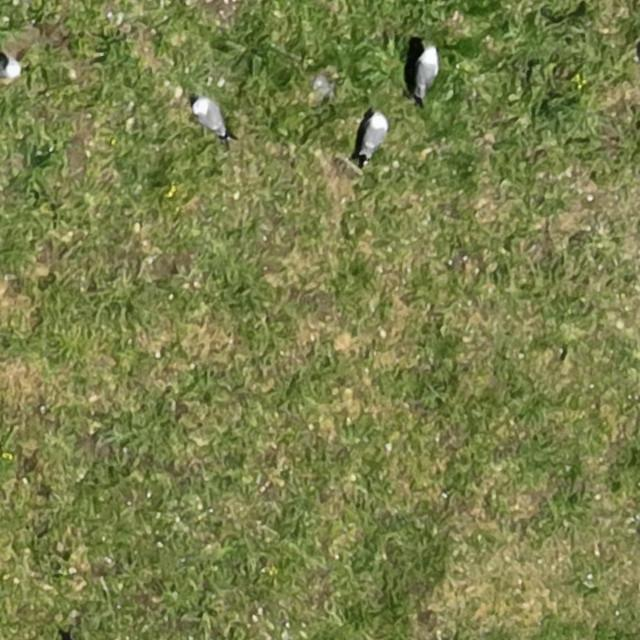umineko: (194, 101, 226, 137), (363, 114, 387, 154), (418, 50, 438, 92), (2, 57, 22, 78)
